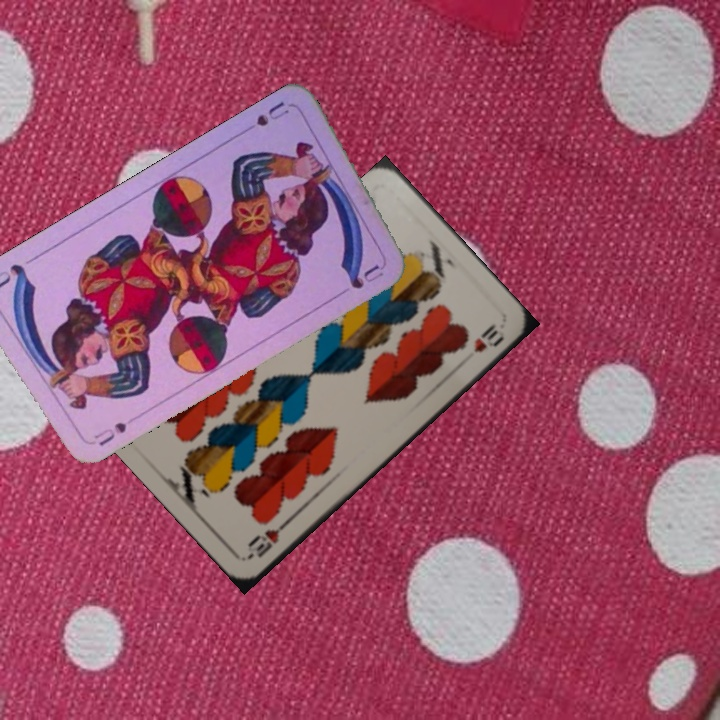H10: (244, 516, 292, 561)
SU: (250, 97, 292, 132), (83, 418, 130, 449)
